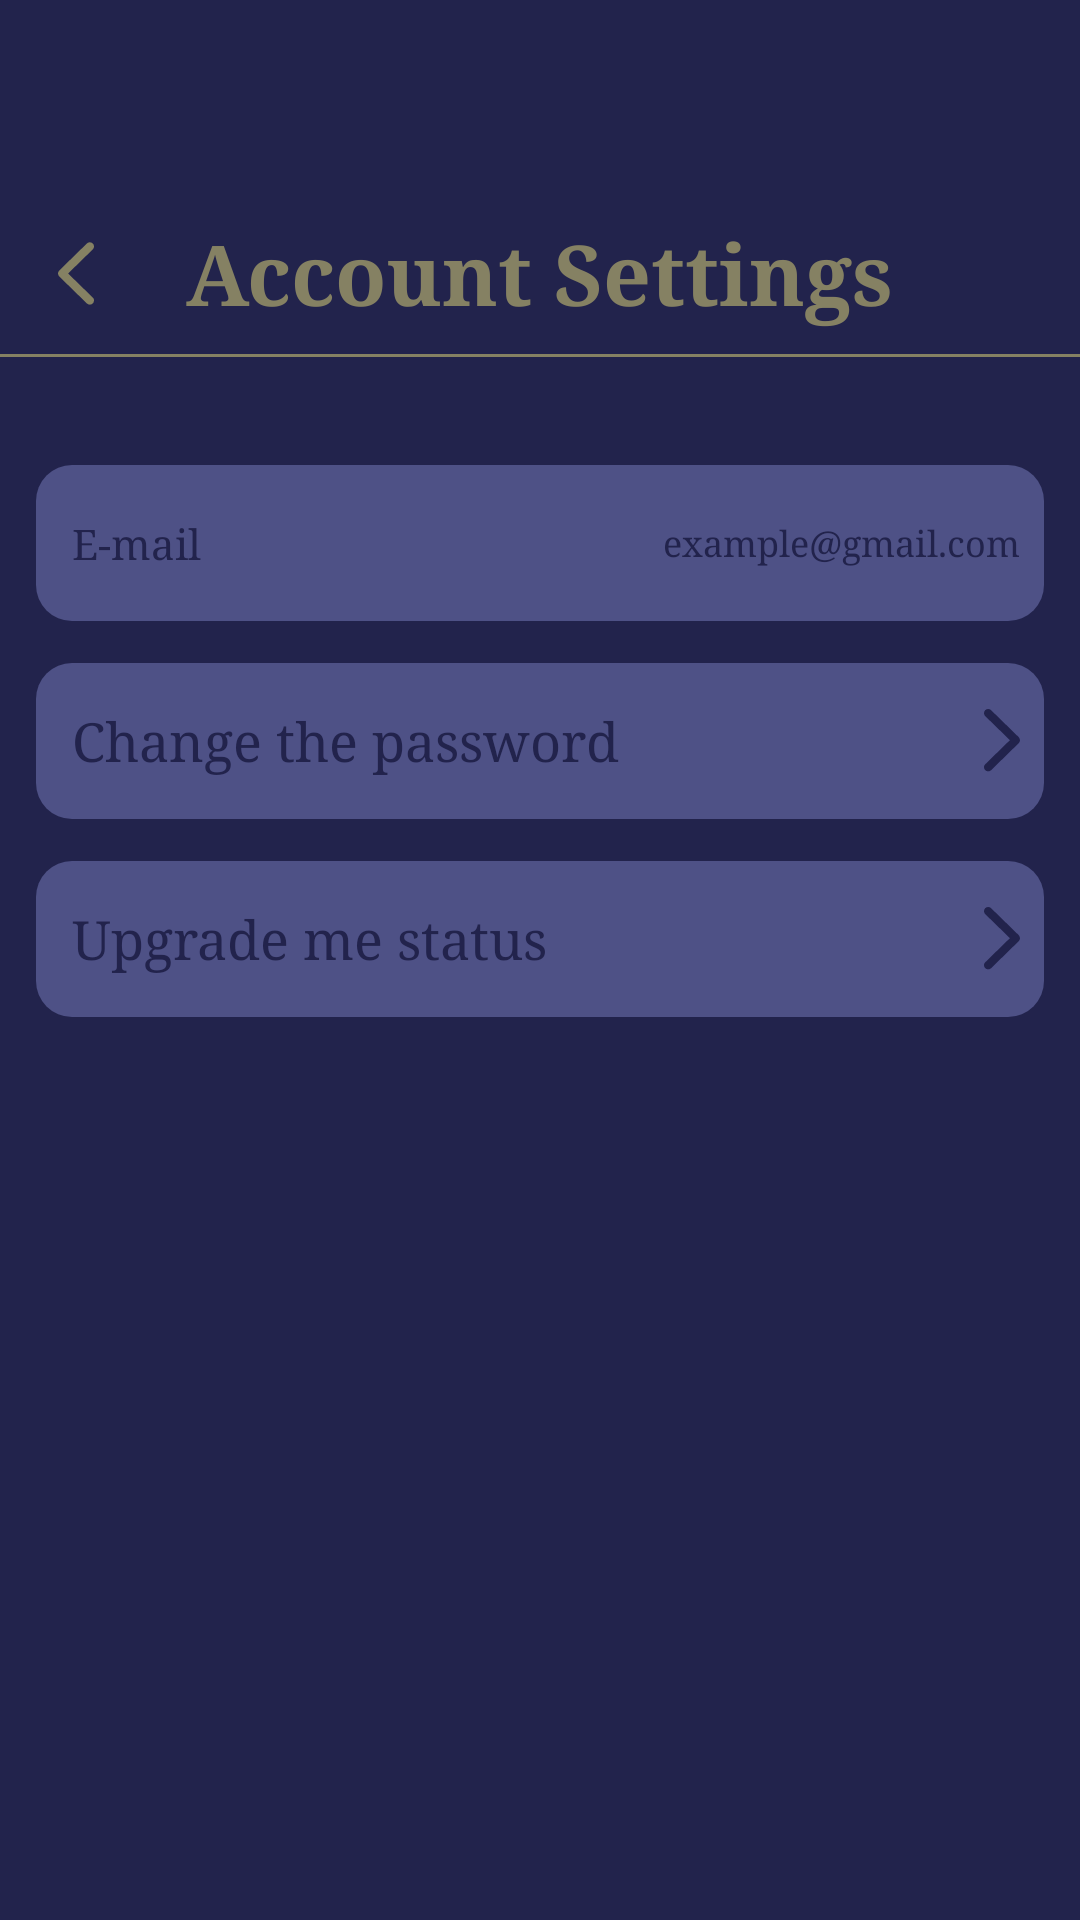

Icons on this 1080 x 1920 Android screen, each with its box as (x1, y1, x2, y2):
Back: (58, 242, 94, 305)
